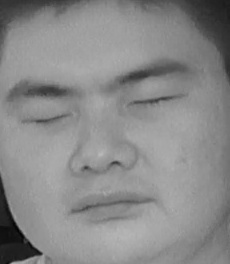blink: (125, 87, 185, 118), (24, 104, 73, 135)
mouth: (69, 185, 158, 233)
